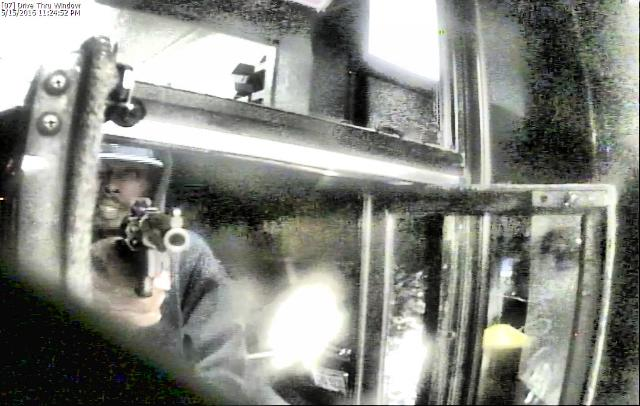pistol: (123, 196, 187, 300)
